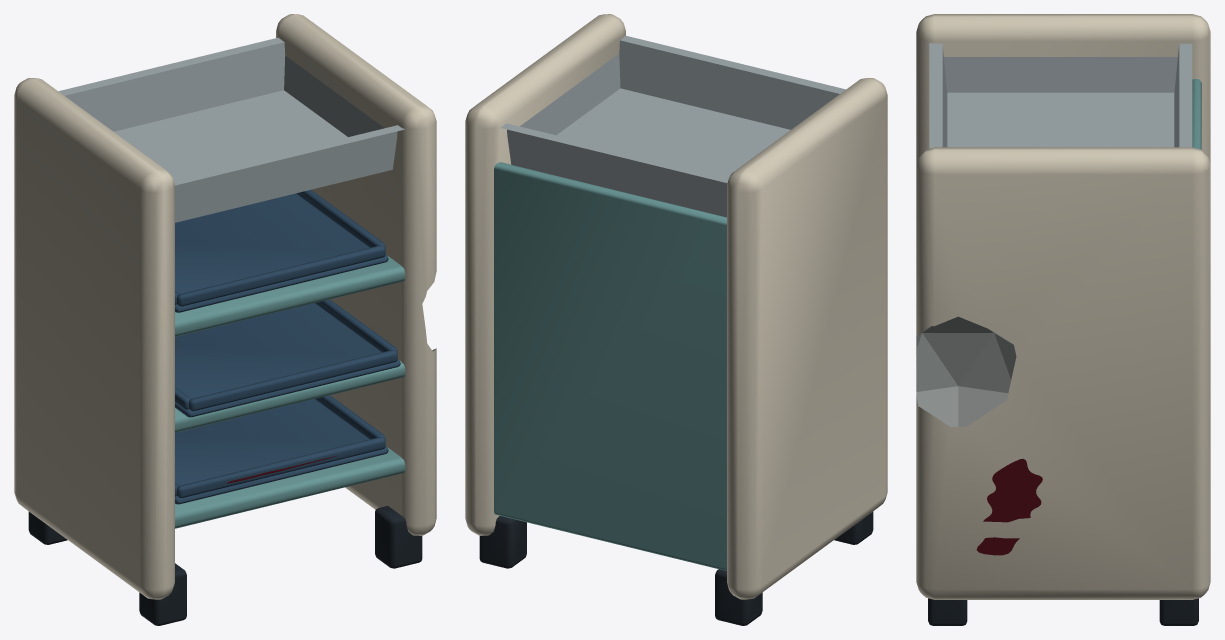
The model's file is cafeteria_tray_return.glb.
The picture shows the model from 3 angles, left to right: view 1: azimuth 30°, elevation 25°; view 2: azimuth 150°, elevation 25°; view 3: azimuth 270°, elevation 25°; orthographic projection. The views are drawn at different scales.
Visible parts, largest first — view 1: Static_Shell_Mesh; view 2: Static_Shell_Mesh; view 3: Static_Shell_Mesh.
Boxes of the visible parts, x1,y1,x2,y2 form: Static_Shell_Mesh: [14, 14, 436, 625]; Static_Shell_Mesh: [465, 14, 887, 625]; Static_Shell_Mesh: [916, 14, 1210, 625].
Size of the model in its own units: 0.6755 by 1 by 0.56.
